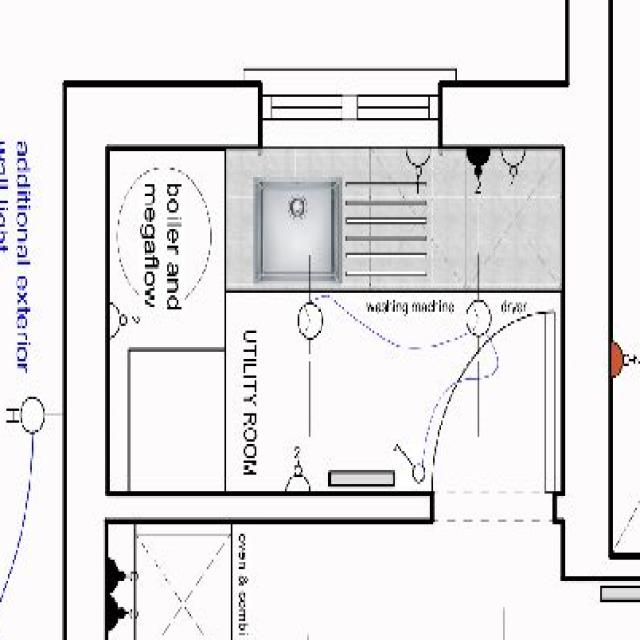Doors: (431, 307, 558, 508)
